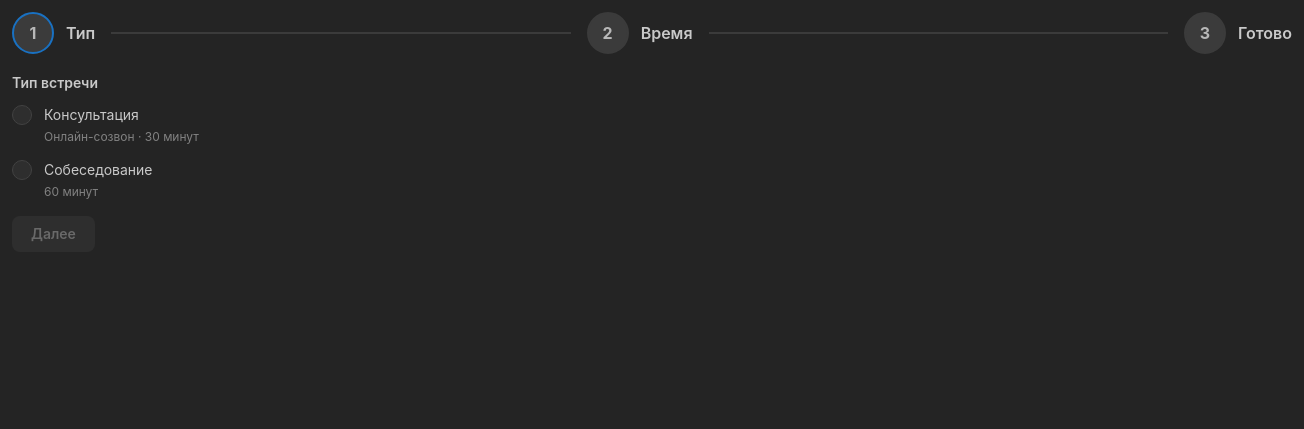
Test case: гостевой вид › в дне не осталось свободных слотов — явный текст вместо сетки
Click the radio button labelled "Консультация".
click(22, 115)  # box [12,105,32,125]
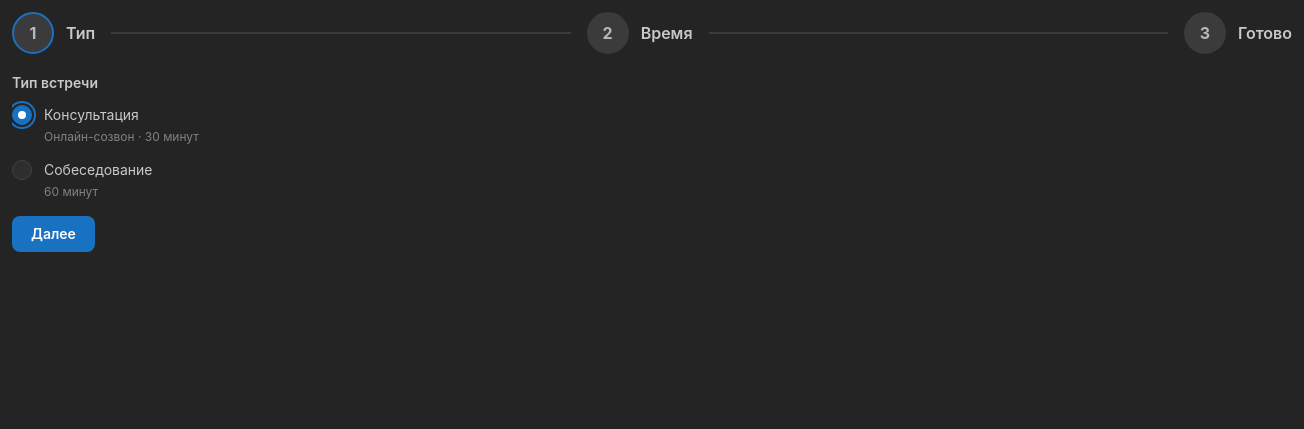
Click the button "Далее".
click(53, 234)  # box [12,216,95,252]
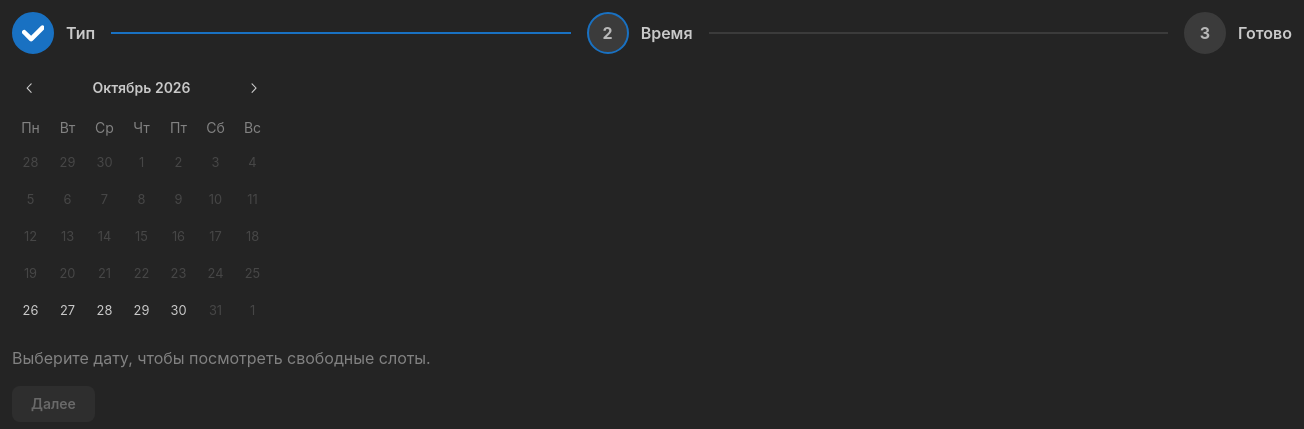
Click the button "26".
click(30, 311)  # box [12,293,48,329]
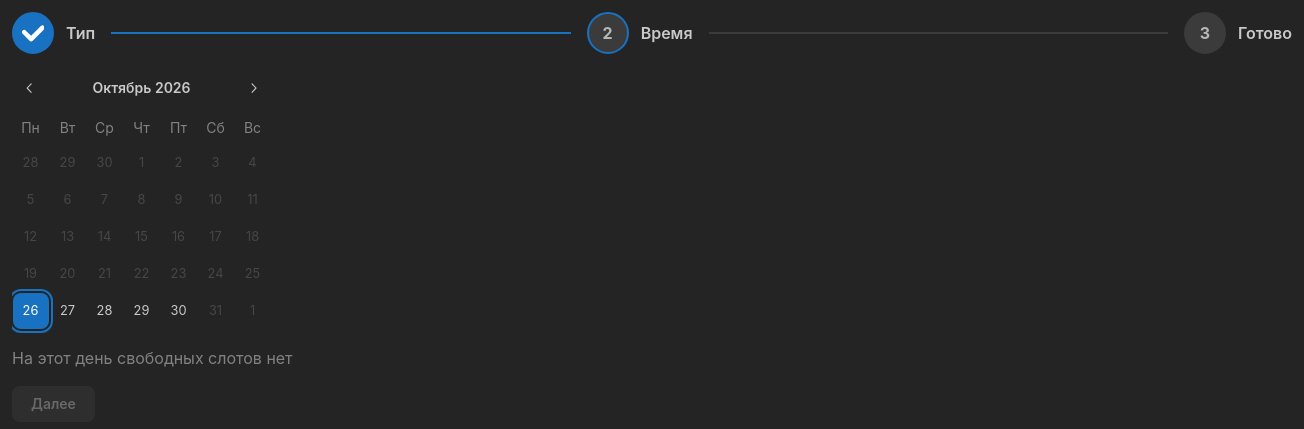
Result: the text "На этот день свободных слотов нет" is shown at [12,348,293,368]
